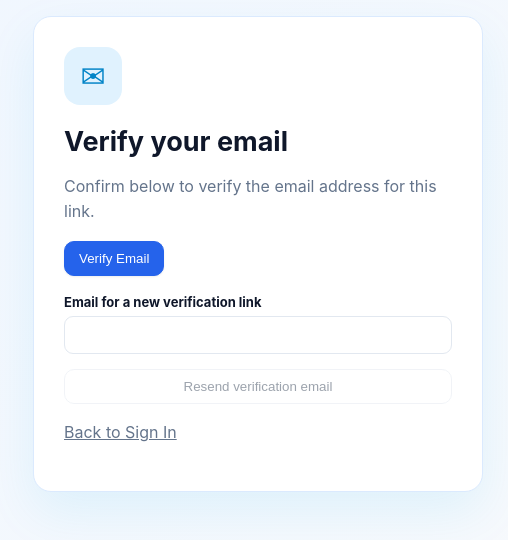
waits for confirmation before verifying and removes the fragment
Click the button "Verify Email".
click(114, 258)  # box [64, 241, 164, 276]
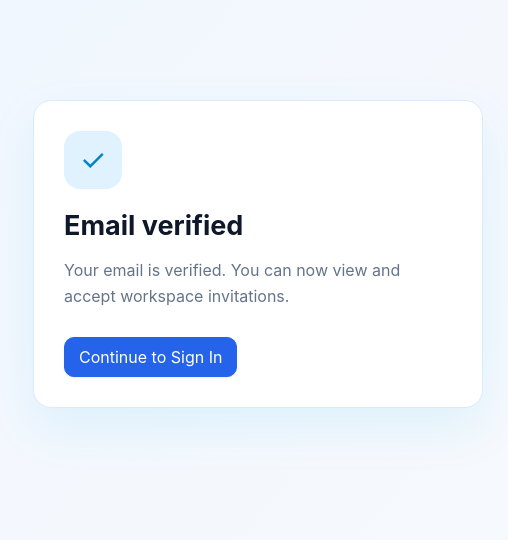
Result: the heading "Email verified" is shown at [64, 209, 243, 242]
